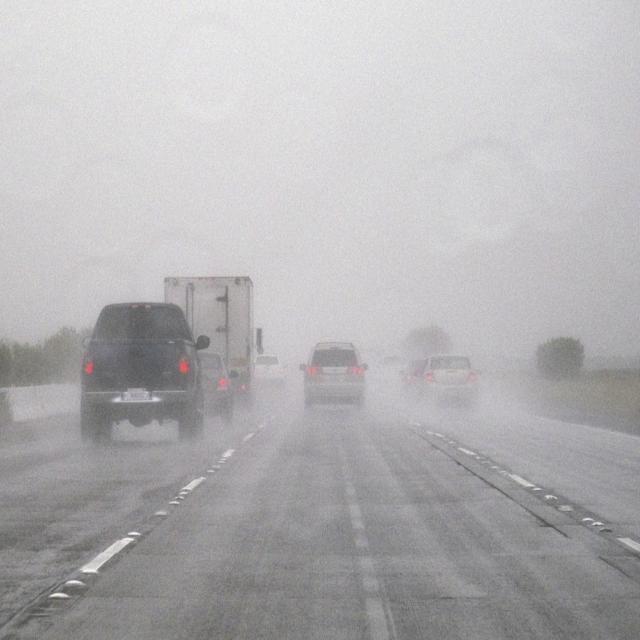bus: (168, 270, 256, 404)
car: (82, 300, 203, 438), (302, 341, 366, 408), (421, 354, 479, 407), (202, 354, 232, 416), (251, 353, 287, 388), (377, 352, 402, 383), (399, 364, 421, 396)
